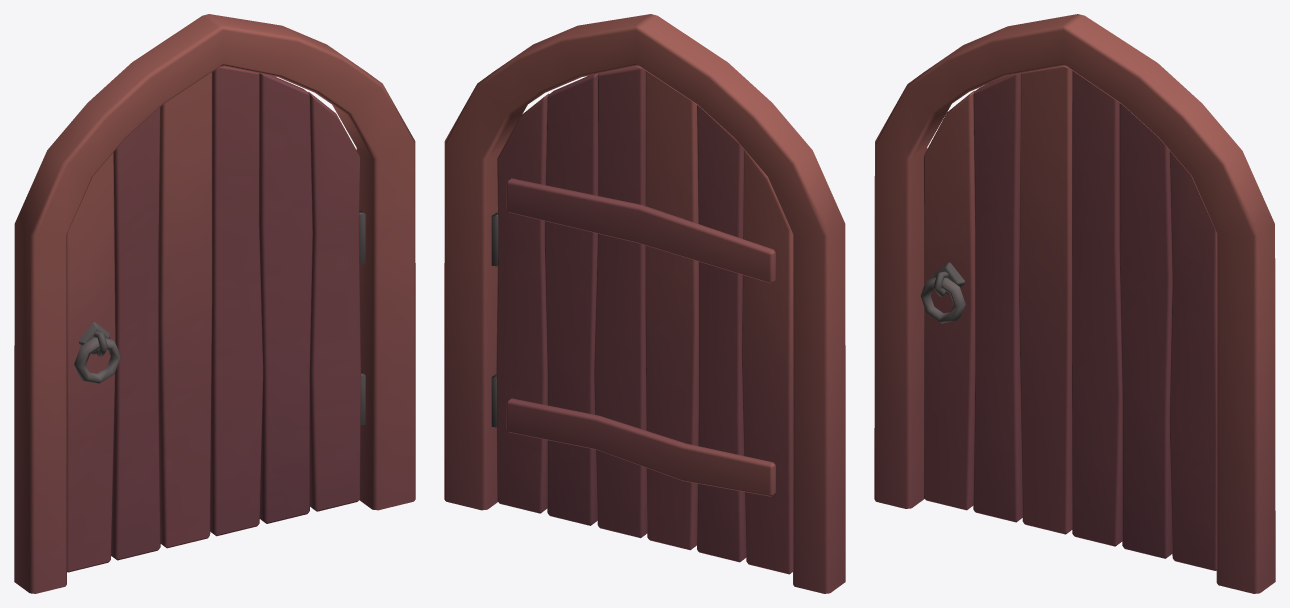
Rendered from door3.glb.
3 views of the same model, side by side, from view 1: azimuth 30°, elevation 25°; view 2: azimuth 150°, elevation 25°; view 3: azimuth 330°, elevation 25° (orthographic).
Visible parts, largest first — view 1: Door.006, Wood.arch.012; view 2: Door.006, Wood.arch.012; view 3: Door.006, Wood.arch.012.
Boxes of the visible parts, x1=… form: Door.006: x1=67, y1=66, x2=365, y2=572; Wood.arch.012: x1=14, y1=14, x2=415, y2=593; Door.006: x1=491, y1=66, x2=792, y2=574; Wood.arch.012: x1=444, y1=14, x2=845, y2=593; Door.006: x1=920, y1=66, x2=1216, y2=570; Wood.arch.012: x1=874, y1=14, x2=1275, y2=593.
Size of the model in its own units: 1.74 by 2.24 by 0.2046.
Materials: 1 (1 with a texture image).
